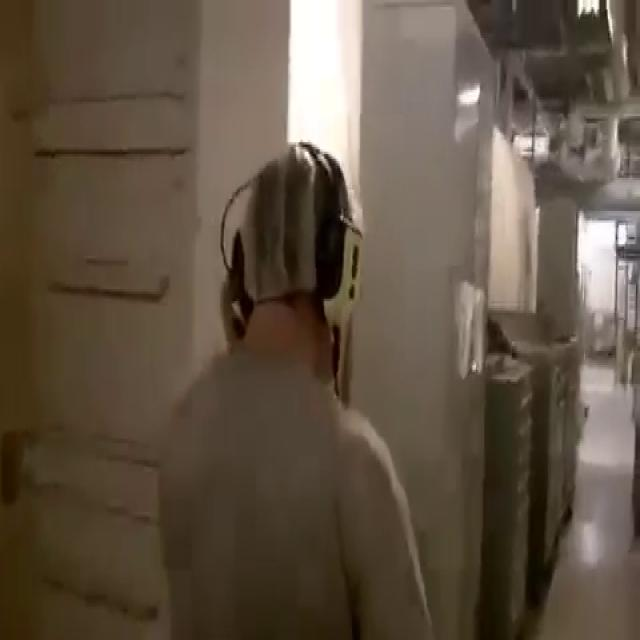earmuff: (314, 206, 368, 328)
